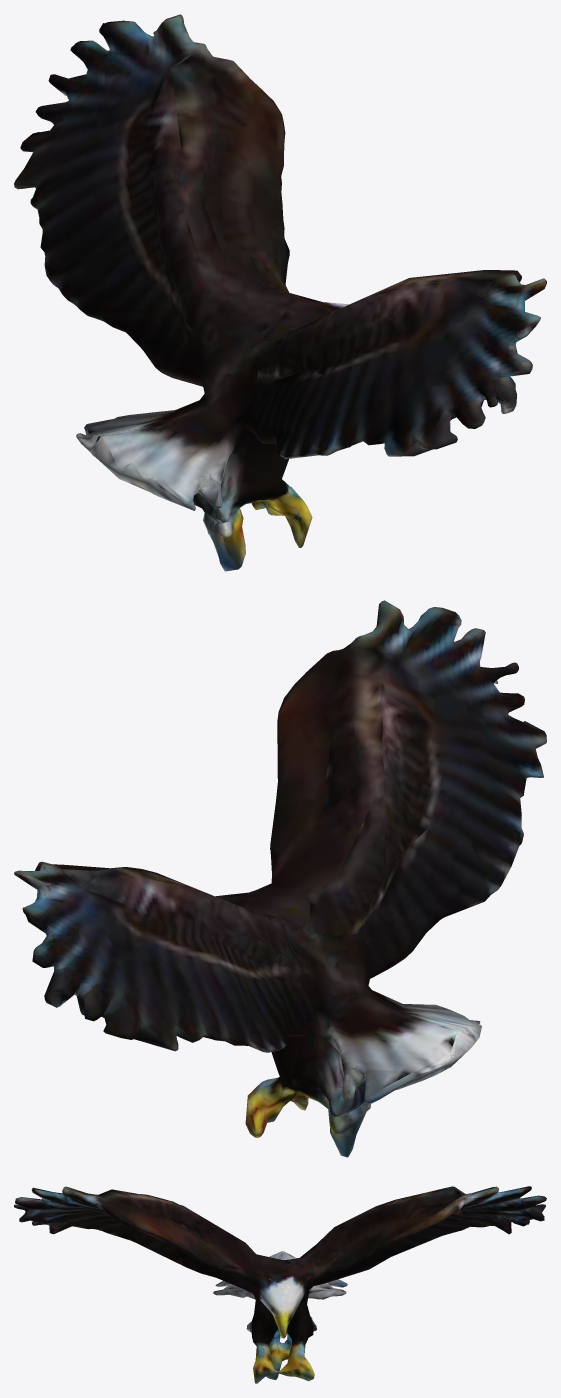
Rendered from eagle.glb.
3 renders of one model, top to bottom at view 1: azimuth 30°, elevation 25°; view 2: azimuth 150°, elevation 25°; view 3: azimuth 270°, elevation 25°, orthographic. The views are drawn at different scales.
Visible parts, largest first — view 1: high_poly_Material_0_0; view 2: high_poly_Material_0_0; view 3: high_poly_Material_0_0.
Boxes of the visible parts, x1,y1,x2,y2 form: high_poly_Material_0_0: (14,14,546,571); high_poly_Material_0_0: (14,600,546,1157); high_poly_Material_0_0: (14,1186,546,1383).
Size of the model in its own units: 0.3982 by 0.4776 by 0.9991.
1 material, 1 textured.
